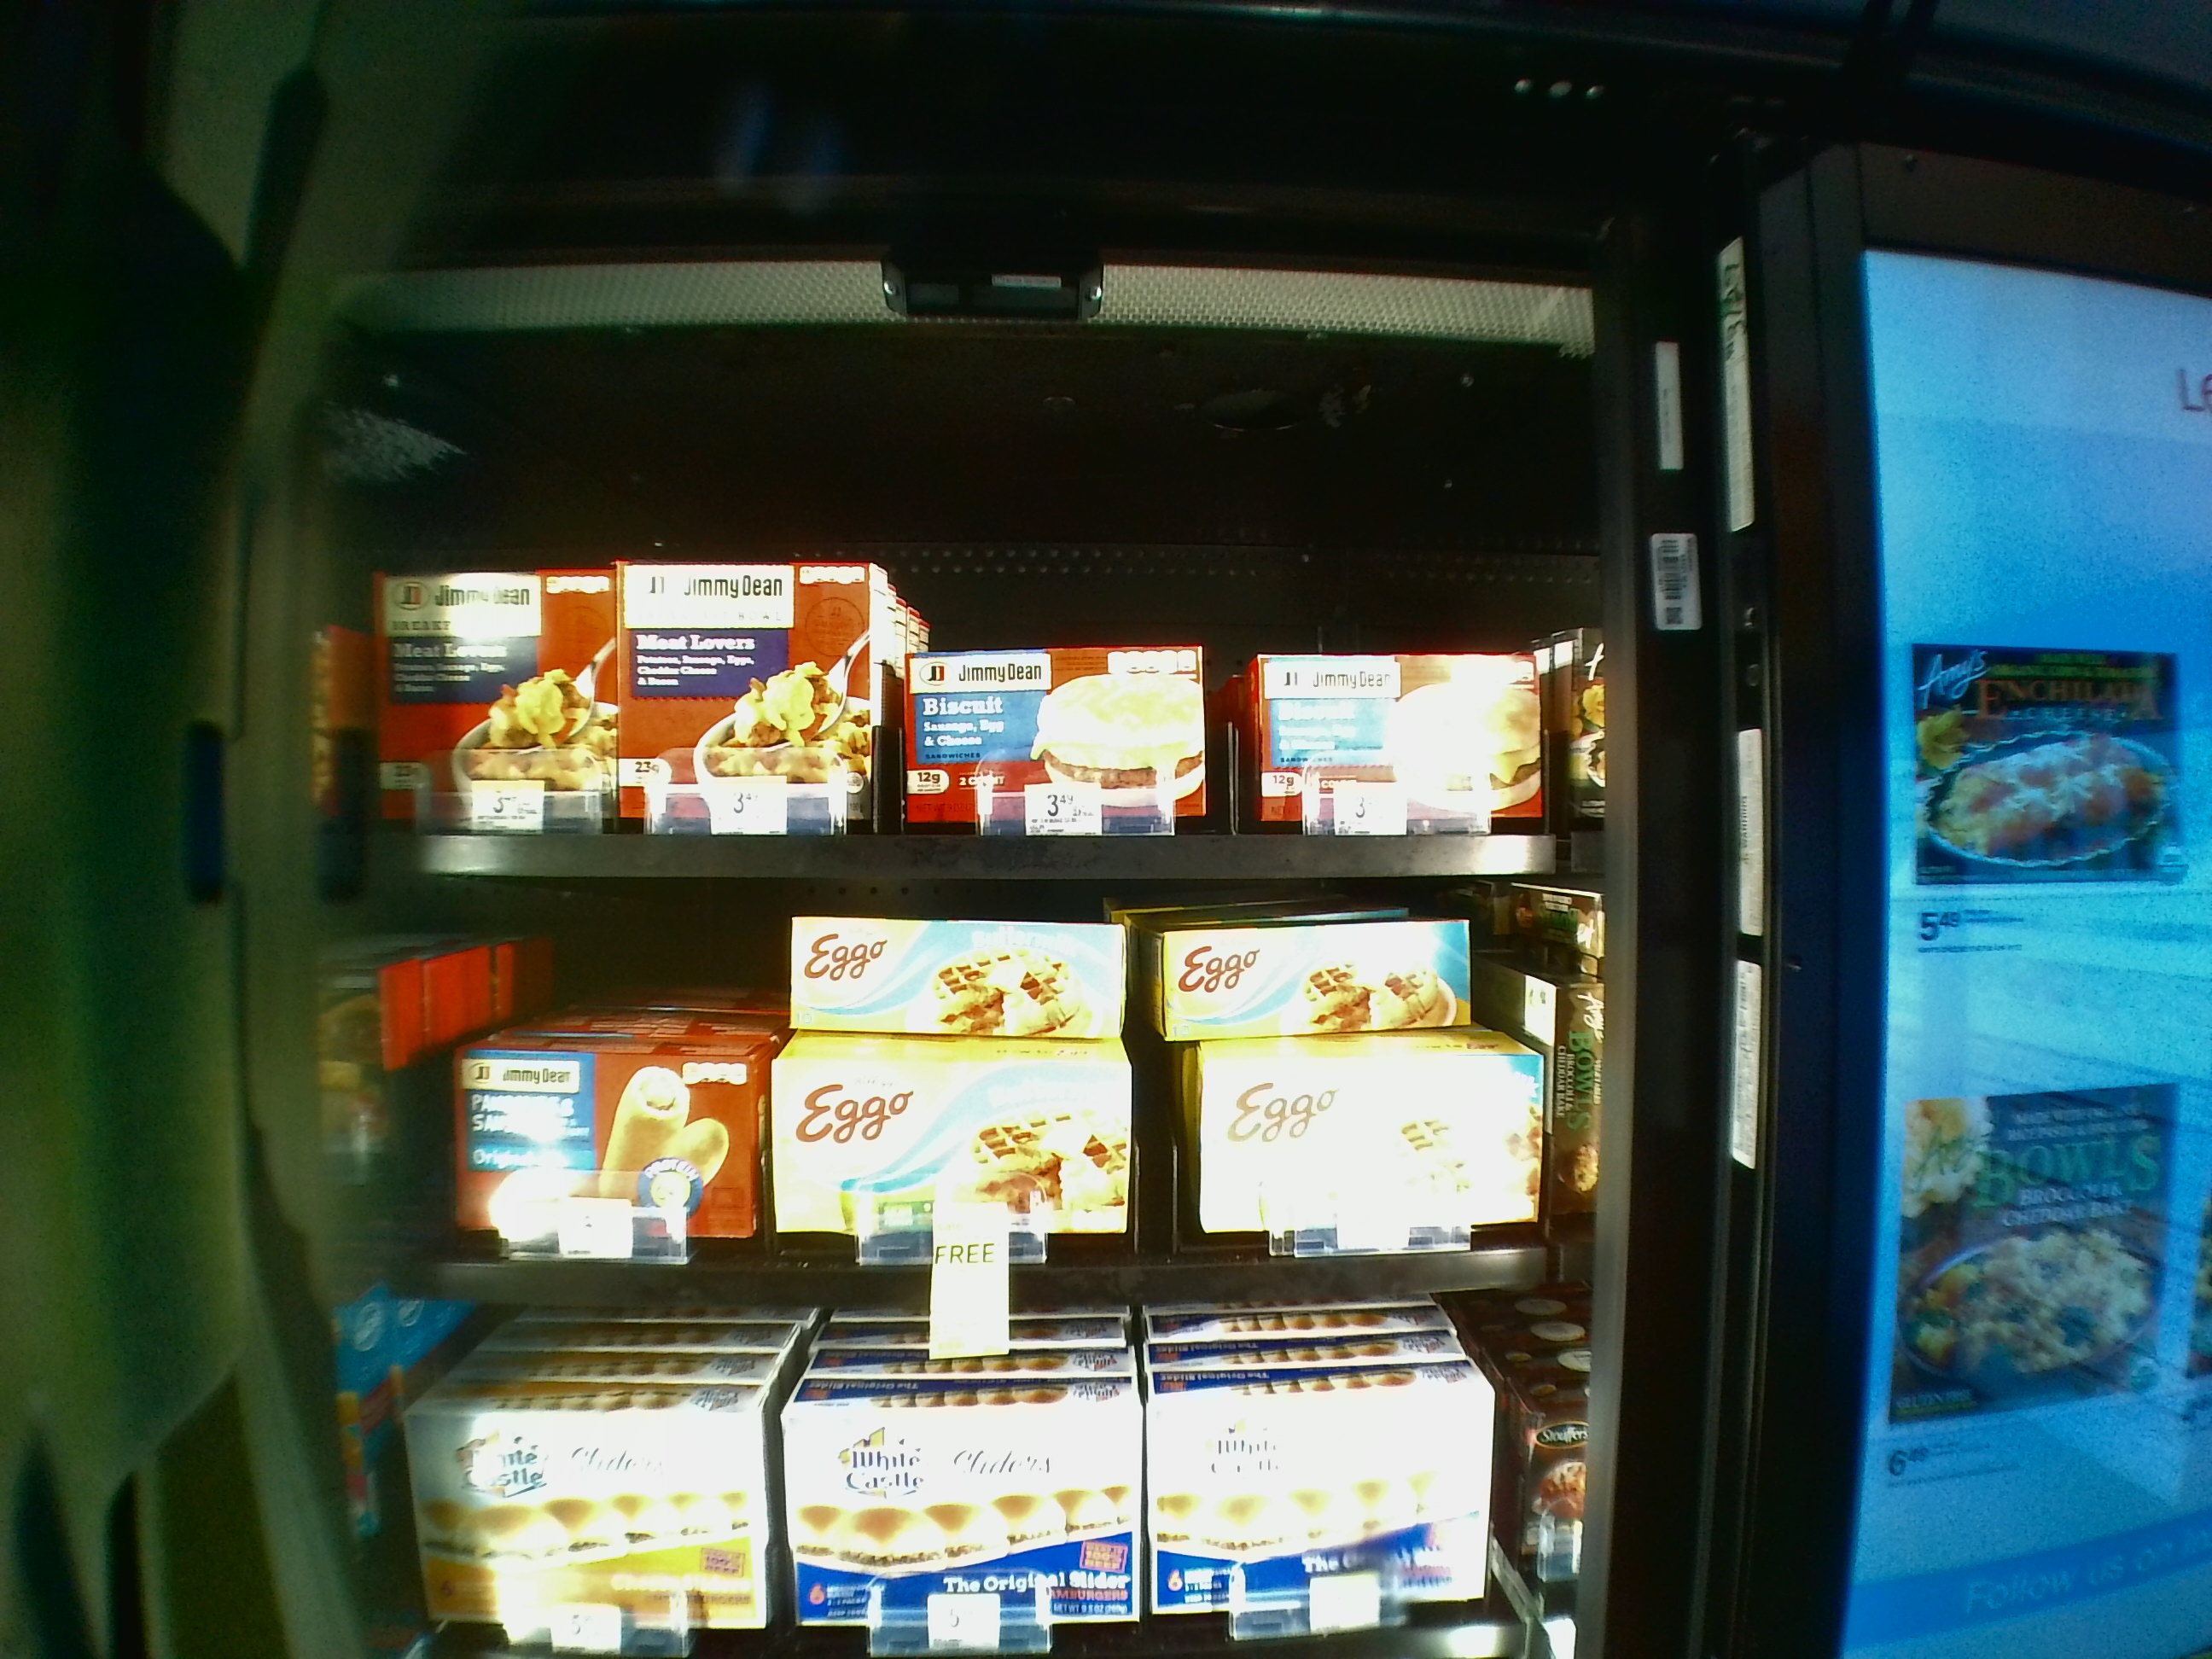shelf: (340, 345, 1590, 884), (334, 894, 1590, 1309)
